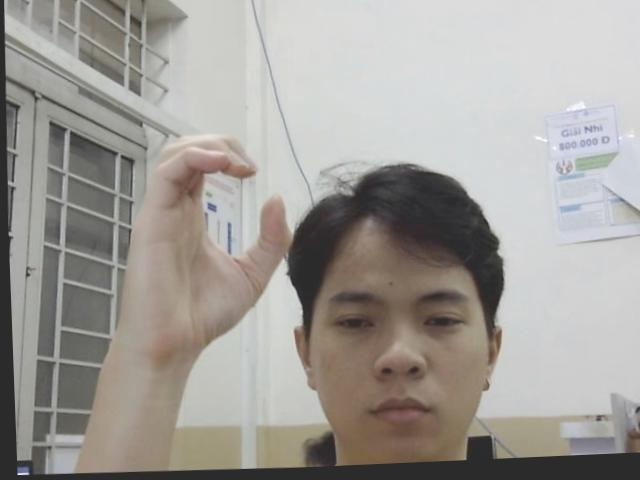C: (117, 129, 294, 366)
